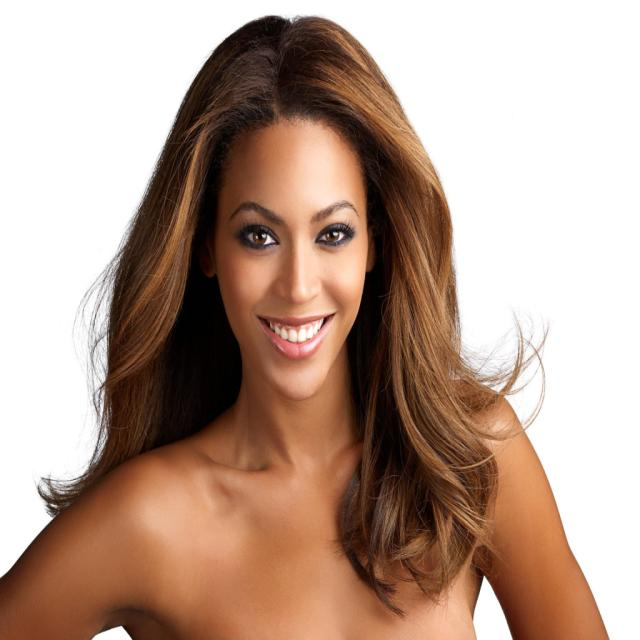mobile_phonerotation: (2, 12, 609, 638)
